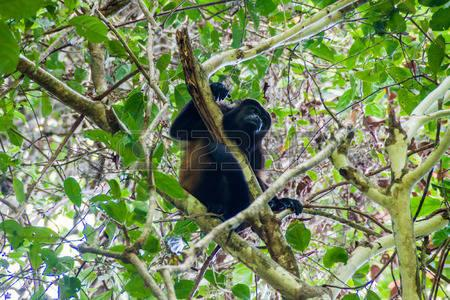monkey: (170, 98, 272, 218)
